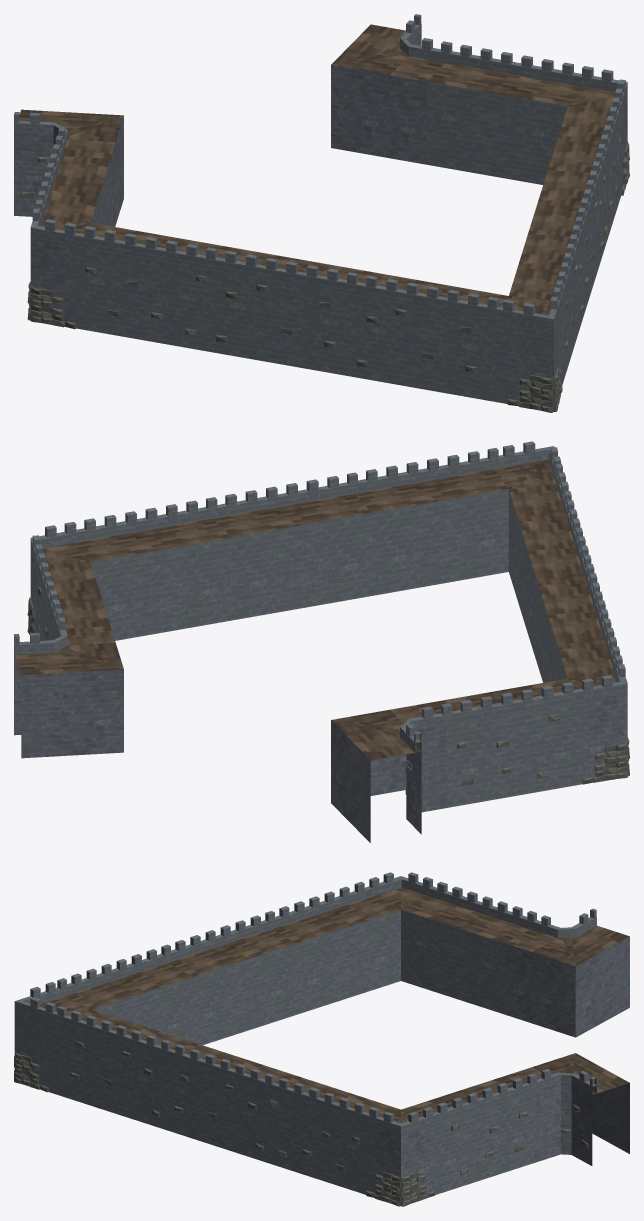
File: SM_Fortress_Bastion.fbx
The picture shows the model from 3 angles, top to bottom: view 1: azimuth 30°, elevation 25°; view 2: azimuth 150°, elevation 25°; view 3: azimuth 270°, elevation 25°; orthographic projection. The views are drawn at different scales.
Parts seen in each view (by area): view 1: polySurface1394; view 2: polySurface1394; view 3: polySurface1394.
Boxes of the visible parts, x1,y1,x2,y2 form: polySurface1394: [14, 14, 629, 412]; polySurface1394: [14, 441, 629, 842]; polySurface1394: [14, 872, 629, 1206].
Size of the model in its own units: 4153 by 670 by 4297.
